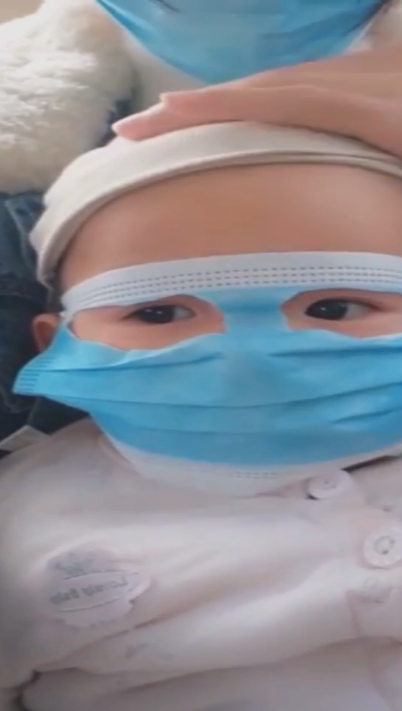mask_weared_incorrect: (17, 134, 401, 475)
